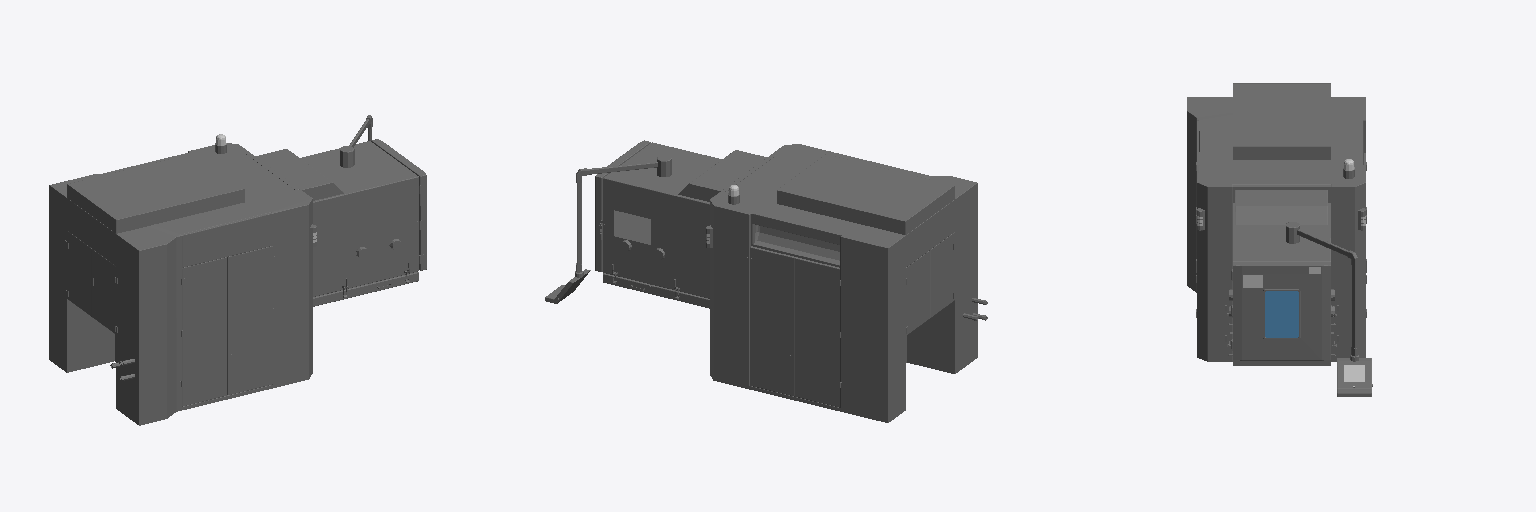
The model's file is 10DDKW.obj.
The picture shows the model from 3 angles: view 1: azimuth 30°, elevation 25°; view 2: azimuth 150°, elevation 25°; view 3: azimuth 270°, elevation 25°; orthographic projection.
Parts seen in each view (by area): view 1: Metal_02, Metal_Black, Metal_03, PartA_01; view 2: Metal_02, Metal_Black, Metal_03, Tex, PartA_01; view 3: Metal_02, Metal_Black, PartA_01, Glass, Metal_03, Tex.
Part boxes in pixels (left/top/right/bottom): Metal_02: left=49, top=119, right=426, bottom=425; Metal_Black: left=67, top=139, right=426, bottom=287; Metal_03: left=333, top=115, right=418, bottom=301; PartA_01: left=65, top=185, right=423, bottom=387; Metal_02: left=545, top=142, right=987, bottom=422; Metal_Black: left=595, top=140, right=953, bottom=289; Metal_03: left=575, top=168, right=688, bottom=302; Tex: left=614, top=185, right=738, bottom=244; PartA_01: left=747, top=186, right=956, bottom=388; Metal_02: left=1187, top=97, right=1371, bottom=396; Metal_Black: left=1230, top=83, right=1333, bottom=333; PartA_01: left=1196, top=147, right=1366, bottom=350; Glass: left=1265, top=291, right=1298, bottom=337; Metal_03: left=1226, top=250, right=1358, bottom=387; Tex: left=1197, top=159, right=1365, bottom=386.
Size of the model in its own units: 154 by 79.44 by 70.12.